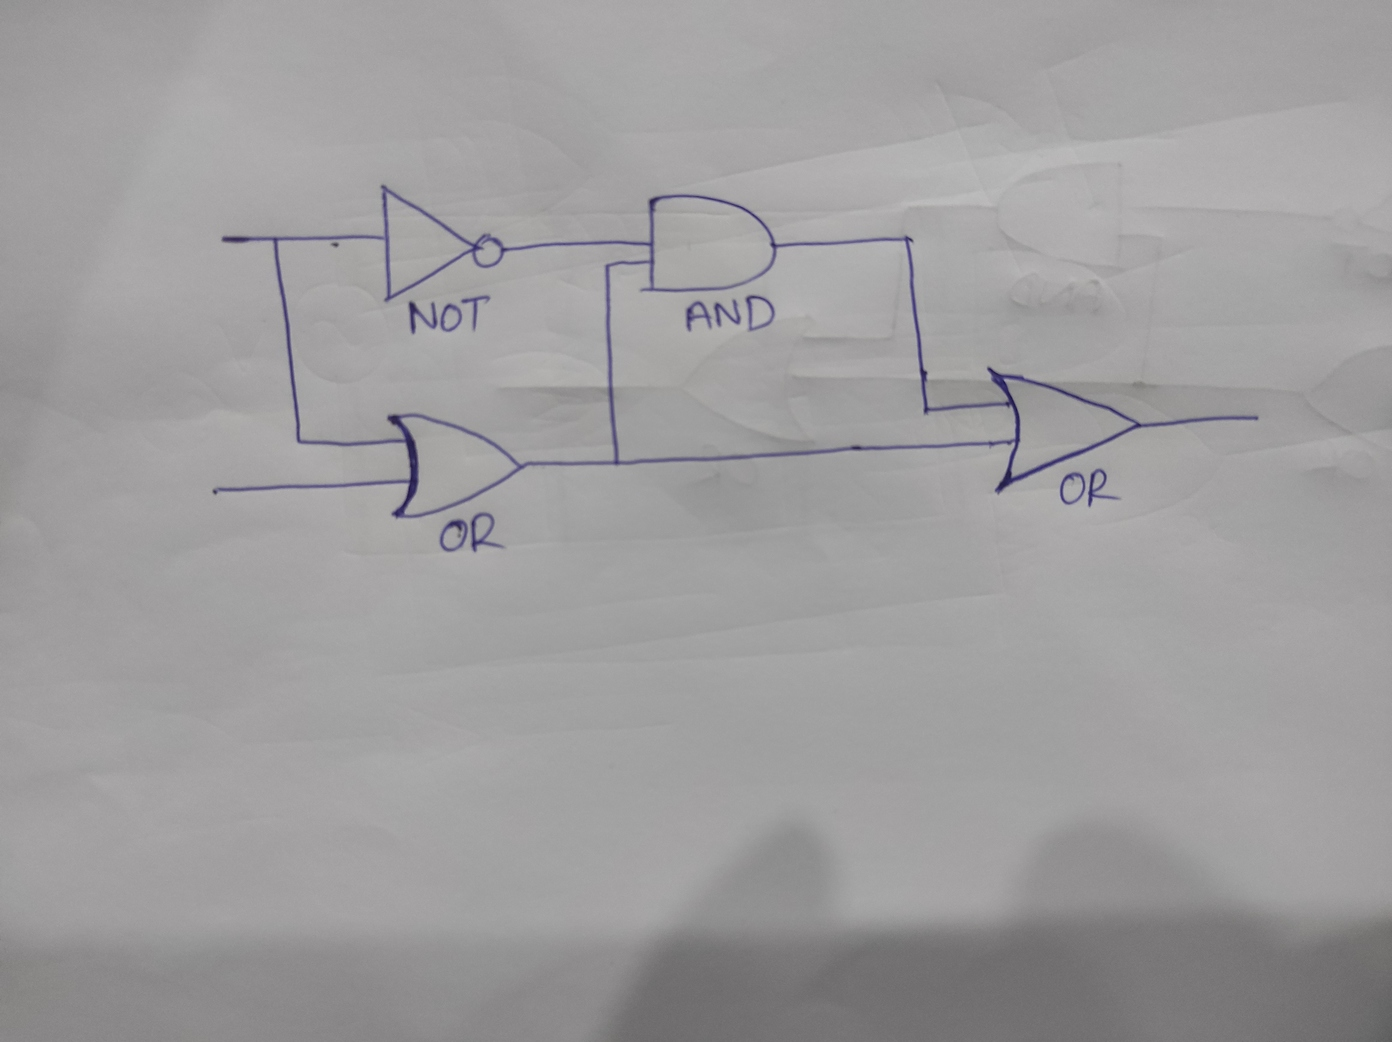and: (637, 192, 782, 296)
junction: (888, 224, 926, 256), (255, 225, 293, 251), (606, 448, 631, 473), (916, 400, 938, 421), (288, 429, 310, 450), (600, 257, 618, 273)
not: (375, 180, 512, 306)
or: (981, 360, 1144, 497), (380, 408, 530, 520)
terminal: (1236, 405, 1269, 429), (210, 225, 241, 250), (205, 481, 227, 500)
text: (682, 292, 780, 334), (405, 296, 490, 336), (434, 511, 507, 556), (1055, 468, 1121, 506)
